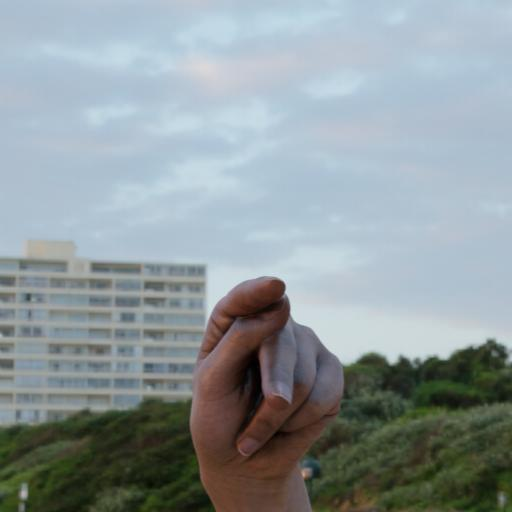P: (180, 256, 364, 487)
